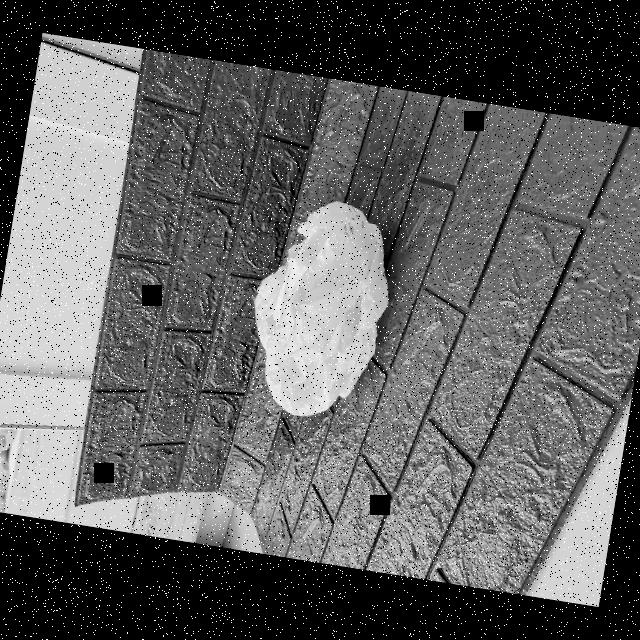plastic_bag: (234, 188, 404, 426)
